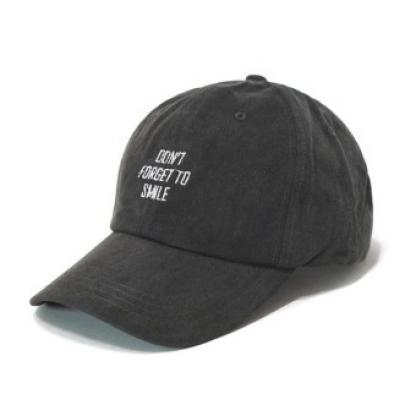cap: (15, 66, 380, 349)
